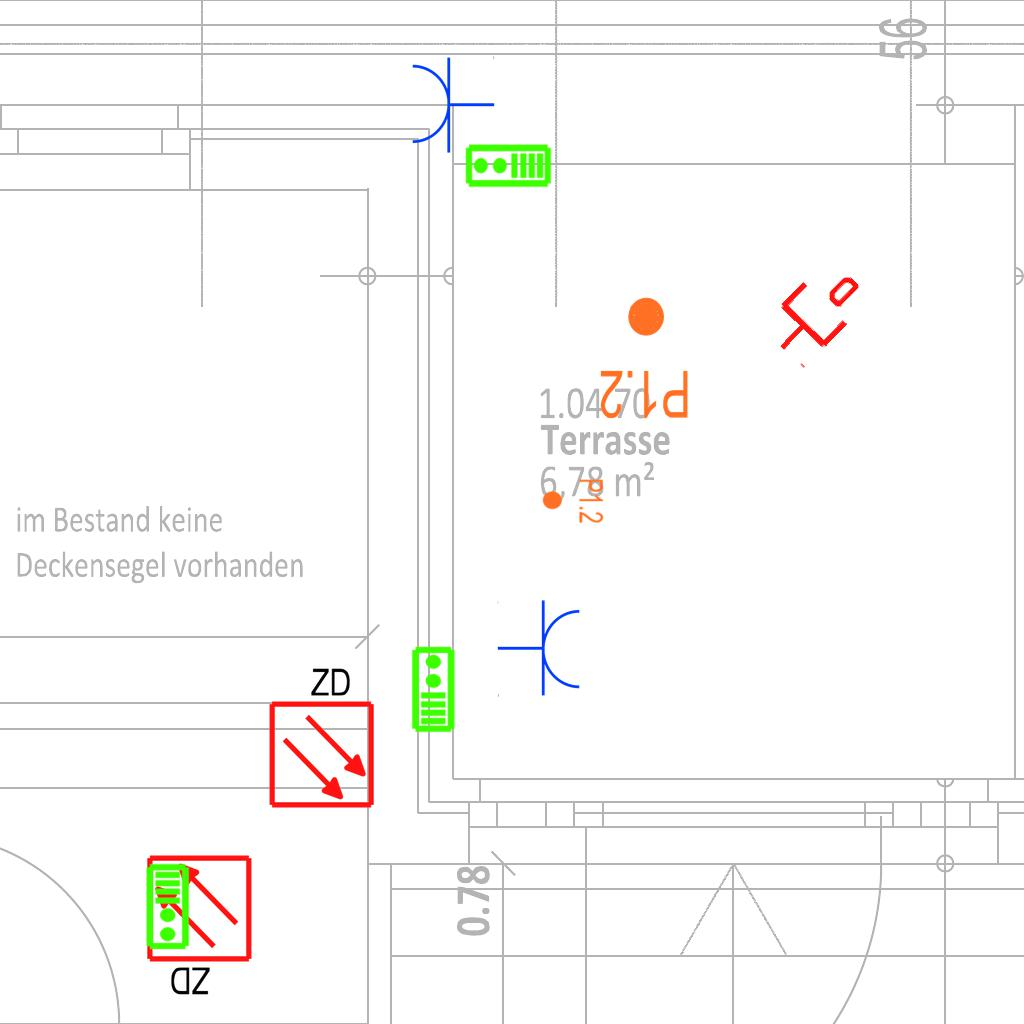Datenanschluss_einfach: (755, 253, 876, 373)
Downlight_LED_Einbauleuchten_Flur: (598, 294, 691, 422), (541, 478, 605, 524)
Gegensprechanlage_mit_Video: (409, 645, 456, 733), (464, 143, 552, 190), (145, 863, 192, 951)
Schukosteckdose_einfach: (497, 599, 584, 699), (408, 54, 495, 154)
ZD_Melder_in_Zwischendecke_mit_Revisionsoeffnung_mind_40_x_40_cm: (263, 661, 377, 810), (144, 853, 258, 1002)
